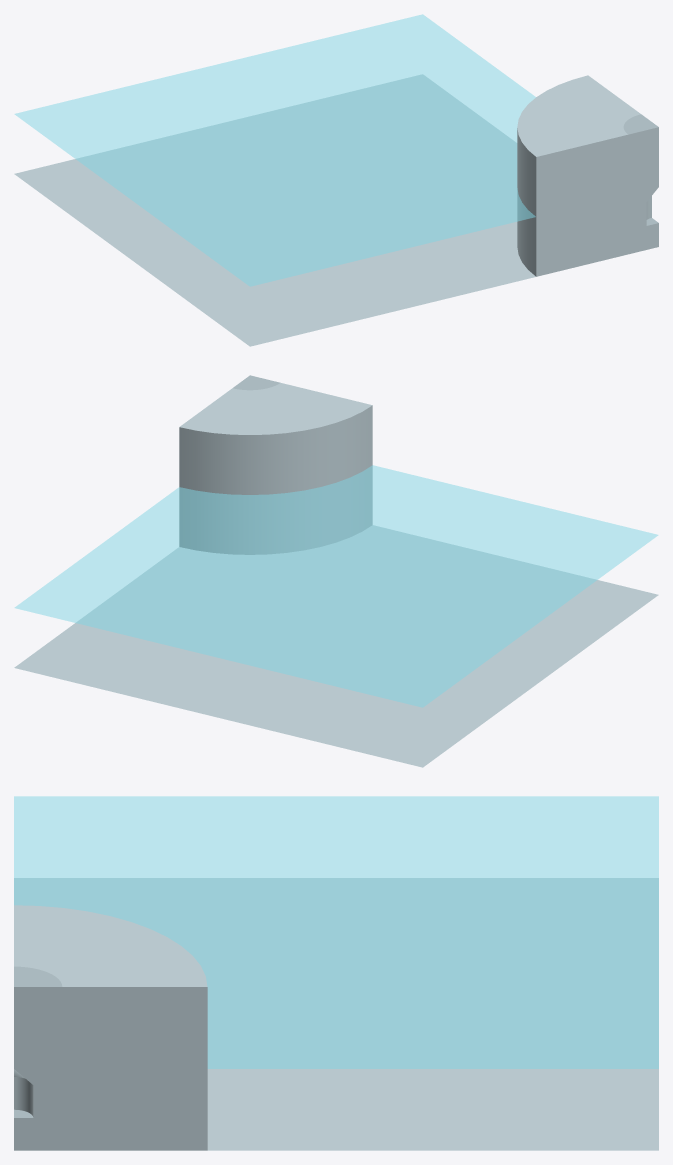
File: fountainCornerInner.glb
3 renders of one model, top to bottom at view 1: azimuth 30°, elevation 25°; view 2: azimuth 150°, elevation 25°; view 3: azimuth 270°, elevation 25°, orthographic. The views are drawn at different scales.
Visible parts, largest first — view 1: fountainCornerInner; view 2: fountainCornerInner; view 3: fountainCornerInner.
Part boxes in pixels (bbox=[...]): fountainCornerInner: bbox=[14, 14, 658, 346]; fountainCornerInner: bbox=[14, 375, 658, 767]; fountainCornerInner: bbox=[14, 796, 658, 1150].
Bounding box in the file's own units: 1 × 0.28 × 1.
